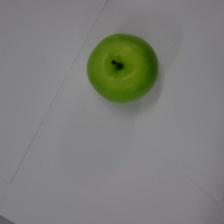green: (87, 34, 158, 103)
